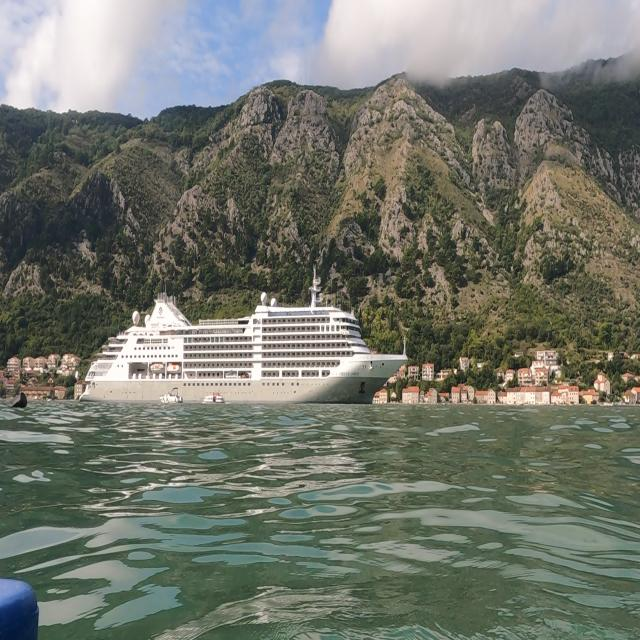boat: (75, 260, 410, 407)
buoy: (7, 388, 34, 417)
